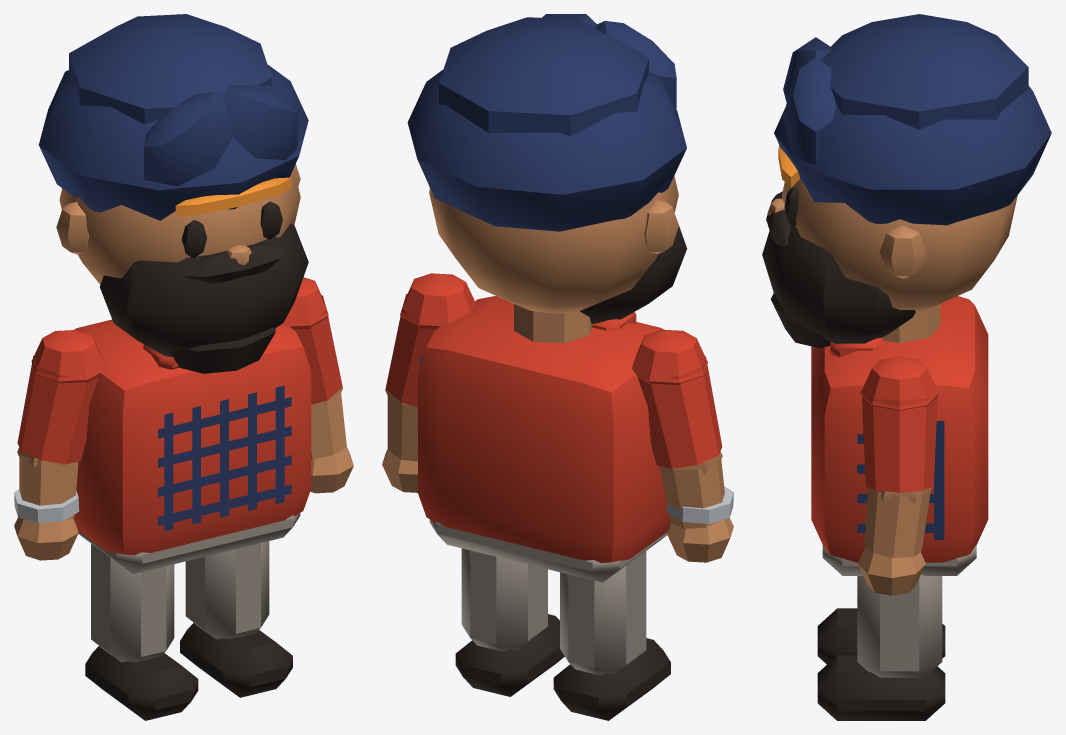
The model's file is trav_sardar.glb.
3 renders of one model, left to right at view 1: azimuth 30°, elevation 25°; view 2: azimuth 150°, elevation 25°; view 3: azimuth 270°, elevation 25°, orthographic. The views are drawn at different scales.
Parts seen in each view (by area): view 1: head, body, arm_r, leg_r, leg_l, arm_l; view 2: head, body, arm_r, leg_r, leg_l, arm_l; view 3: head, body, arm_l, leg_l, leg_r.
Boxes of the visible parts, left/top/right/bottom form: head: left=39, top=14, right=308, bottom=373; body: left=73, top=319, right=311, bottom=574; arm_r: left=14, top=330, right=104, bottom=560; leg_r: left=85, top=543, right=198, bottom=720; leg_l: left=180, top=541, right=292, bottom=697; arm_l: left=282, top=277, right=353, bottom=493; head: left=407, top=14, right=687, bottom=323; body: left=418, top=296, right=670, bottom=582; arm_r: left=632, top=329, right=733, bottom=562; leg_r: left=553, top=551, right=670, bottom=720; leg_l: left=455, top=548, right=564, bottom=696; arm_l: left=382, top=273, right=475, bottom=492; head: left=762, top=14, right=1051, bottom=348; body: left=811, top=296, right=988, bottom=575; arm_l: left=858, top=356, right=938, bottom=595; leg_l: left=817, top=574, right=945, bottom=720; leg_r: left=817, top=608, right=945, bottom=664.
Bounding box in the file's own units: 0.6458 × 1.19 × 0.4774.
1 material, 1 textured.
